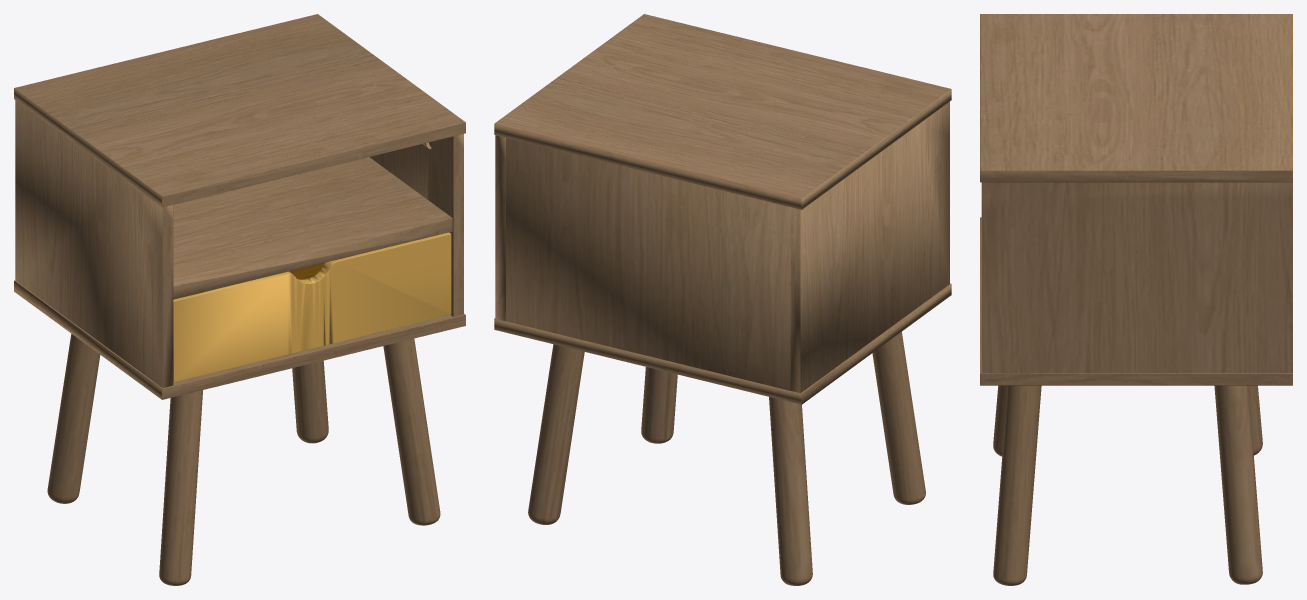
3 views of the same model, side by side, from view 1: azimuth 30°, elevation 25°; view 2: azimuth 150°, elevation 25°; view 3: azimuth 270°, elevation 25° (orthographic). The views are drawn at different scales.
Visible parts, largest first — view 1: RootNode; view 2: RootNode; view 3: RootNode.
Boxes of the visible parts, x1,y1,x2,y2 form: RootNode: (14, 14, 465, 585); RootNode: (494, 14, 951, 585); RootNode: (980, 14, 1292, 585).
Size of the model in its own units: 0.45 by 0.5707 by 0.38.
1 material, 1 textured.
